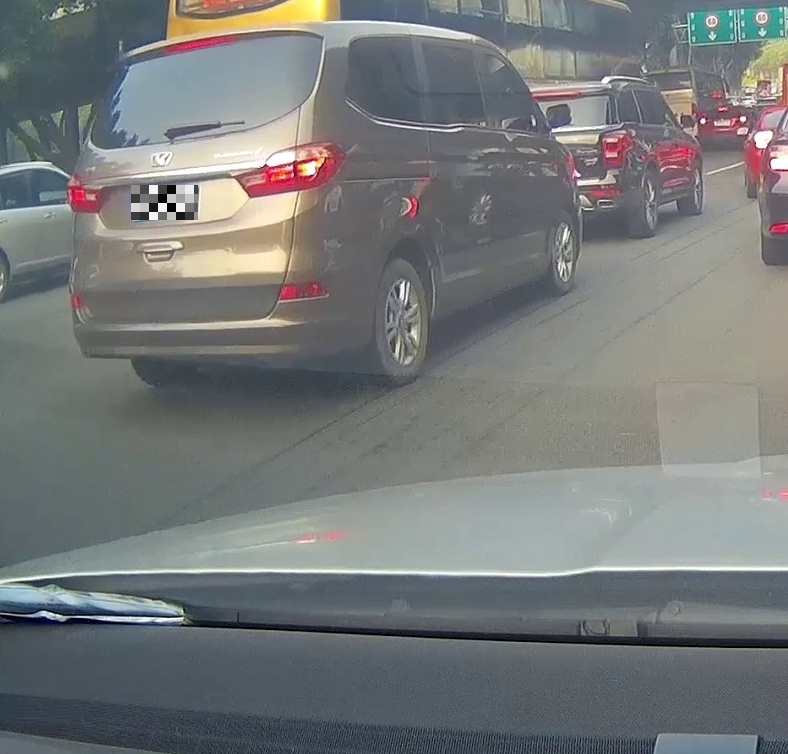L_light: (66, 171, 109, 213)
R_light: (235, 141, 348, 199)
T_light: (163, 35, 238, 54)
day-right: (63, 25, 351, 388)
plate_1: (131, 185, 198, 220)
